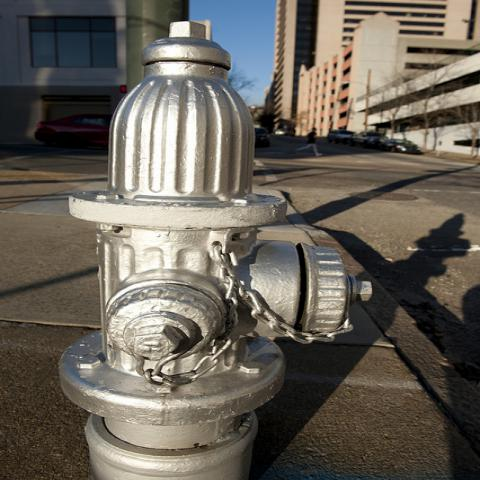car: (33, 112, 114, 151), (378, 139, 422, 155), (256, 128, 270, 147)
